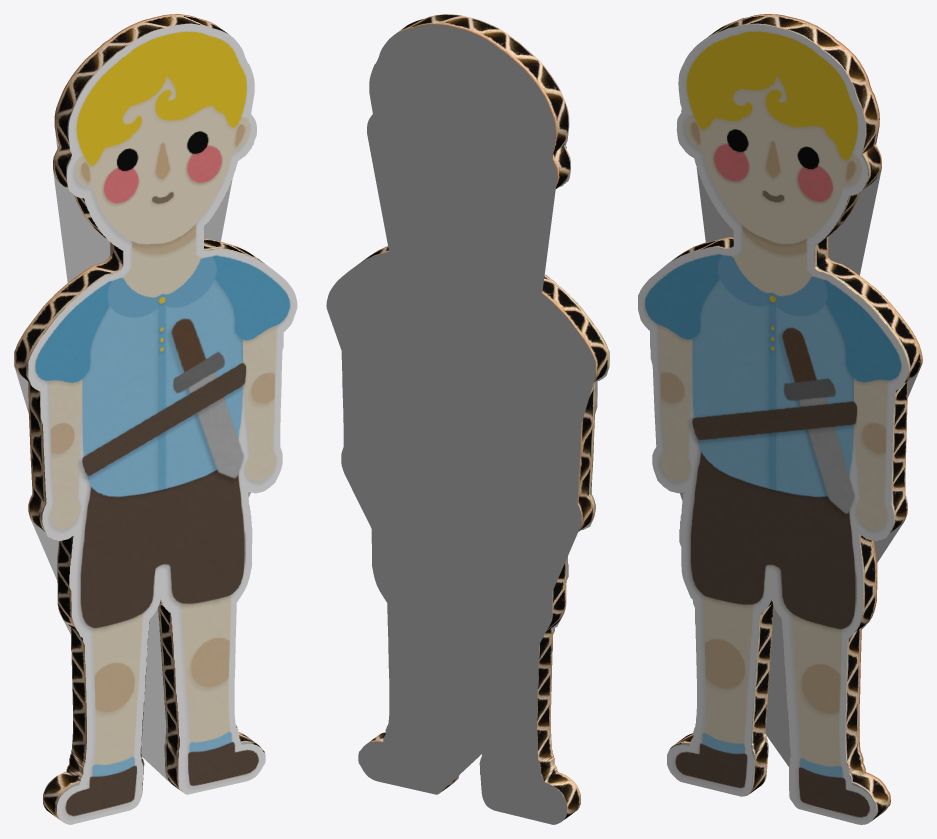
Rendered from princeIdle.fbx.
3 views of the same model, side by side, from view 1: azimuth 30°, elevation 25°; view 2: azimuth 150°, elevation 25°; view 3: azimuth 330°, elevation 25° (orthographic).
Parts seen in each view (by area): view 1: princeCrownless; view 2: princeCrownless; view 3: princeCrownless.
Boxes of the visible parts, x1=… form: princeCrownless: x1=14, y1=14, x2=297, y2=824; princeCrownless: x1=326, y1=14, x2=609, y2=824; princeCrownless: x1=638, y1=14, x2=922, y2=824.
Size of the model in its own units: 171 by 469 by 15.34.
